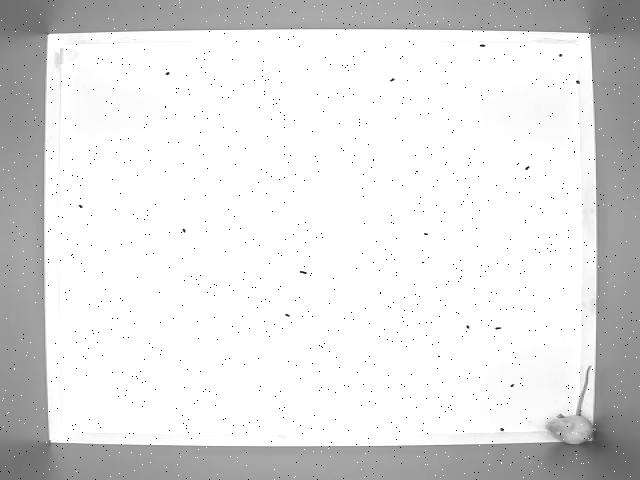Tikus: (541, 360, 605, 446)
